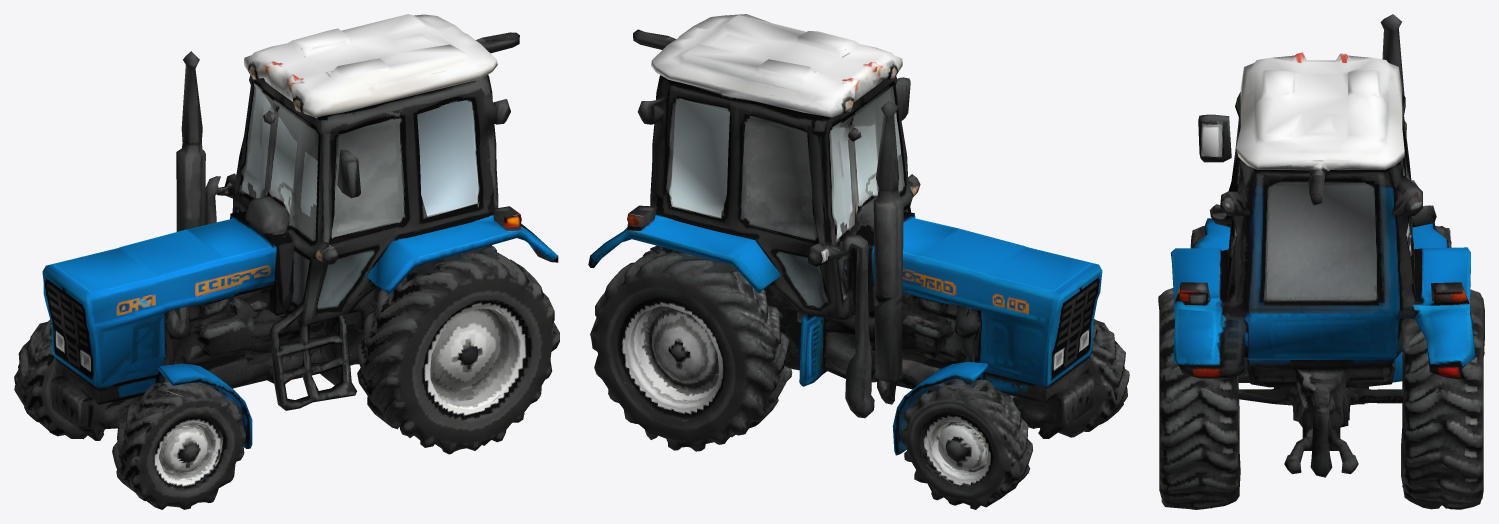
Rendered from Meshy_AI_Blue_Tractor_0701115307_texture.glb.
The picture shows the model from 3 angles, left to right: view 1: azimuth 30°, elevation 25°; view 2: azimuth 150°, elevation 25°; view 3: azimuth 270°, elevation 25°; orthographic projection. The views are drawn at different scales.
Parts seen in each view (by area): view 1: Mesh_0; view 2: Mesh_0; view 3: Mesh_0.
Part boxes in pixels (x1,y1,x2,y2): Mesh_0: [14, 14, 559, 509]; Mesh_0: [588, 14, 1129, 509]; Mesh_0: [1158, 14, 1484, 509].
Bounding box in the file's own units: 3.2 × 2.5 × 1.88.
Materials: 1 (1 with a texture image).
